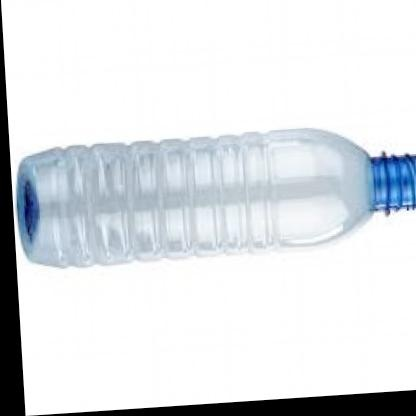trash: (17, 129, 370, 265)
